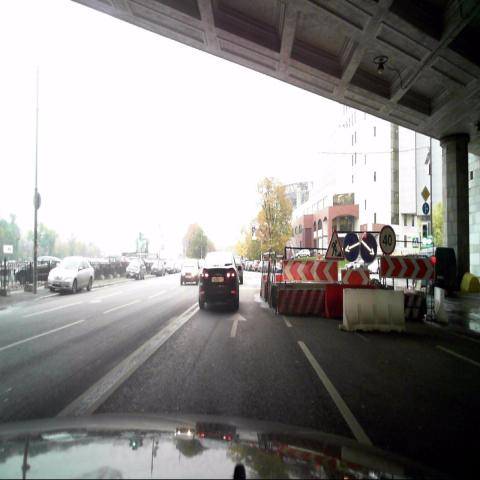4_2_1: (360, 230, 378, 262)
4_2_2: (344, 231, 360, 261)
